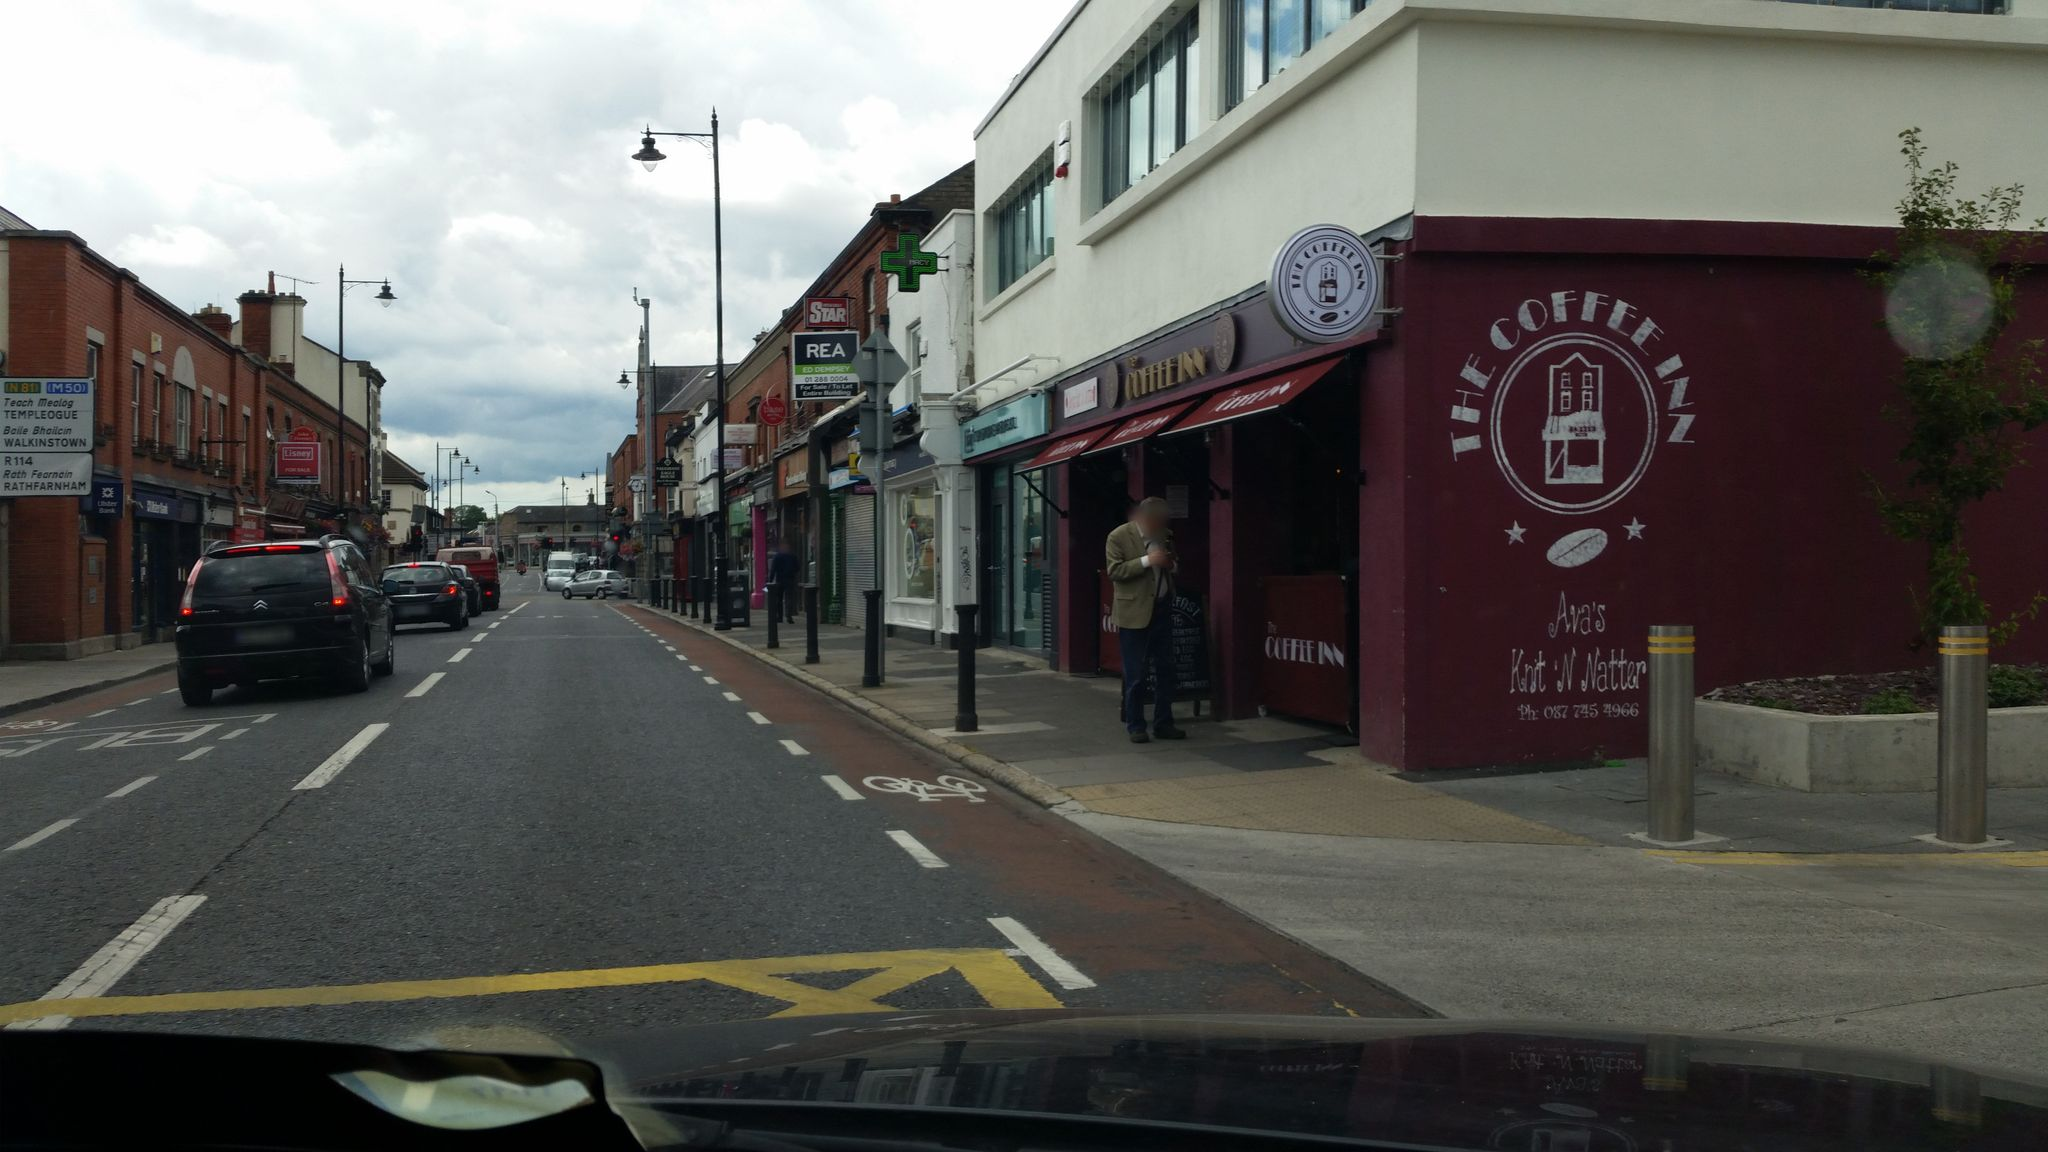property sign: (781, 314, 881, 405), (262, 428, 345, 492)
